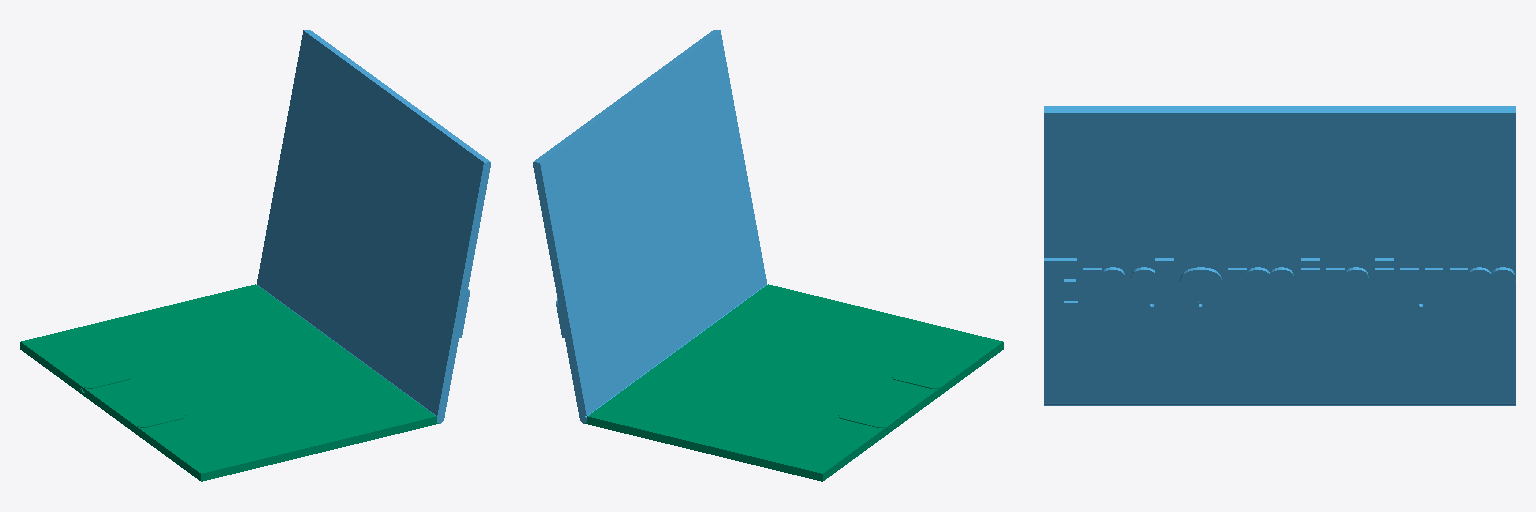
robot.urdf — partnet_5d544ee4b094c6606436916a86a90ed7:
<?xml version="1.0" ?>
<robot name="partnet_5d544ee4b094c6606436916a86a90ed7">
	<link name="base"/>
	<link name="link_0">
		<visual name="screen-7">
			<origin xyz="-0.44804212917652464 0.21356399999999987 0.2023642442228723"/>
			<geometry>
				<mesh filename="textured_objs/original-3.obj"/>
			</geometry>
		</visual>
		<visual name="screen_frame-8">
			<origin xyz="-0.44804212917652464 0.21356399999999987 0.2023642442228723"/>
			<geometry>
				<mesh filename="textured_objs/original-4.obj"/>
			</geometry>
		</visual>
		<visual name="screen_frame-8">
			<origin xyz="-0.44804212917652464 0.21356399999999987 0.2023642442228723"/>
			<geometry>
				<mesh filename="textured_objs/original-1.obj"/>
			</geometry>
		</visual>
		<visual name="screen_frame-8">
			<origin xyz="-0.44804212917652464 0.21356399999999987 0.2023642442228723"/>
			<geometry>
				<mesh filename="textured_objs/original-56.obj"/>
			</geometry>
		</visual>
		<visual name="screen_frame-8">
			<origin xyz="-0.44804212917652464 0.21356399999999987 0.2023642442228723"/>
			<geometry>
				<mesh filename="textured_objs/original-17.obj"/>
			</geometry>
		</visual>
		<visual name="screen_frame-8">
			<origin xyz="-0.44804212917652464 0.21356399999999987 0.2023642442228723"/>
			<geometry>
				<mesh filename="textured_objs/original-16.obj"/>
			</geometry>
		</visual>
		<visual name="screen_frame-8">
			<origin xyz="-0.44804212917652464 0.21356399999999987 0.2023642442228723"/>
			<geometry>
				<mesh filename="textured_objs/original-15.obj"/>
			</geometry>
		</visual>
		<visual name="screen_frame-8">
			<origin xyz="-0.44804212917652464 0.21356399999999987 0.2023642442228723"/>
			<geometry>
				<mesh filename="textured_objs/original-13.obj"/>
			</geometry>
		</visual>
		<visual name="screen_frame-8">
			<origin xyz="-0.44804212917652464 0.21356399999999987 0.2023642442228723"/>
			<geometry>
				<mesh filename="textured_objs/original-12.obj"/>
			</geometry>
		</visual>
		<visual name="screen_frame-8">
			<origin xyz="-0.44804212917652464 0.21356399999999987 0.2023642442228723"/>
			<geometry>
				<mesh filename="textured_objs/original-11.obj"/>
			</geometry>
		</visual>
		<visual name="screen_frame-8">
			<origin xyz="-0.44804212917652464 0.21356399999999987 0.2023642442228723"/>
			<geometry>
				<mesh filename="textured_objs/original-14.obj"/>
			</geometry>
		</visual>
		<visual name="screen_frame-8">
			<origin xyz="-0.44804212917652464 0.21356399999999987 0.2023642442228723"/>
			<geometry>
				<mesh filename="textured_objs/original-6.obj"/>
			</geometry>
		</visual>
		<visual name="screen_frame-8">
			<origin xyz="-0.44804212917652464 0.21356399999999987 0.2023642442228723"/>
			<geometry>
				<mesh filename="textured_objs/original-7.obj"/>
			</geometry>
		</visual>
		<visual name="screen_frame-8">
			<origin xyz="-0.44804212917652464 0.21356399999999987 0.2023642442228723"/>
			<geometry>
				<mesh filename="textured_objs/original-8.obj"/>
			</geometry>
		</visual>
		<visual name="screen_frame-8">
			<origin xyz="-0.44804212917652464 0.21356399999999987 0.2023642442228723"/>
			<geometry>
				<mesh filename="textured_objs/original-9.obj"/>
			</geometry>
		</visual>
		<visual name="screen_frame-8">
			<origin xyz="-0.44804212917652464 0.21356399999999987 0.2023642442228723"/>
			<geometry>
				<mesh filename="textured_objs/original-10.obj"/>
			</geometry>
		</visual>
		<collision>
			<origin xyz="-0.44804212917652464 0.21356399999999987 0.2023642442228723"/>
			<geometry>
				<mesh filename="textured_objs/original-3.obj"/>
			</geometry>
		</collision>
		<collision>
			<origin xyz="-0.44804212917652464 0.21356399999999987 0.2023642442228723"/>
			<geometry>
				<mesh filename="textured_objs/original-4.obj"/>
			</geometry>
		</collision>
		<collision>
			<origin xyz="-0.44804212917652464 0.21356399999999987 0.2023642442228723"/>
			<geometry>
				<mesh filename="textured_objs/original-1.obj"/>
			</geometry>
		</collision>
		<collision>
			<origin xyz="-0.44804212917652464 0.21356399999999987 0.2023642442228723"/>
			<geometry>
				<mesh filename="textured_objs/original-56.obj"/>
			</geometry>
		</collision>
		<collision>
			<origin xyz="-0.44804212917652464 0.21356399999999987 0.2023642442228723"/>
			<geometry>
				<mesh filename="textured_objs/original-17.obj"/>
			</geometry>
		</collision>
		<collision>
			<origin xyz="-0.44804212917652464 0.21356399999999987 0.2023642442228723"/>
			<geometry>
				<mesh filename="textured_objs/original-16.obj"/>
			</geometry>
		</collision>
		<collision>
			<origin xyz="-0.44804212917652464 0.21356399999999987 0.2023642442228723"/>
			<geometry>
				<mesh filename="textured_objs/original-15.obj"/>
			</geometry>
		</collision>
		<collision>
			<origin xyz="-0.44804212917652464 0.21356399999999987 0.2023642442228723"/>
			<geometry>
				<mesh filename="textured_objs/original-13.obj"/>
			</geometry>
		</collision>
		<collision>
			<origin xyz="-0.44804212917652464 0.21356399999999987 0.2023642442228723"/>
			<geometry>
				<mesh filename="textured_objs/original-12.obj"/>
			</geometry>
		</collision>
		<collision>
			<origin xyz="-0.44804212917652464 0.21356399999999987 0.2023642442228723"/>
			<geometry>
				<mesh filename="textured_objs/original-11.obj"/>
			</geometry>
		</collision>
		<collision>
			<origin xyz="-0.44804212917652464 0.21356399999999987 0.2023642442228723"/>
			<geometry>
				<mesh filename="textured_objs/original-14.obj"/>
			</geometry>
		</collision>
		<collision>
			<origin xyz="-0.44804212917652464 0.21356399999999987 0.2023642442228723"/>
			<geometry>
				<mesh filename="textured_objs/original-6.obj"/>
			</geometry>
		</collision>
		<collision>
			<origin xyz="-0.44804212917652464 0.21356399999999987 0.2023642442228723"/>
			<geometry>
				<mesh filename="textured_objs/original-7.obj"/>
			</geometry>
		</collision>
		<collision>
			<origin xyz="-0.44804212917652464 0.21356399999999987 0.2023642442228723"/>
			<geometry>
				<mesh filename="textured_objs/original-8.obj"/>
			</geometry>
		</collision>
		<collision>
			<origin xyz="-0.44804212917652464 0.21356399999999987 0.2023642442228723"/>
			<geometry>
				<mesh filename="textured_objs/original-9.obj"/>
			</geometry>
		</collision>
		<collision>
			<origin xyz="-0.44804212917652464 0.21356399999999987 0.2023642442228723"/>
			<geometry>
				<mesh filename="textured_objs/original-10.obj"/>
			</geometry>
		</collision>
	</link>
	<joint name="joint_0" type="revolute">
		<origin xyz="0.44804212917652464 -0.21356399999999987 -0.2023642442228723"/>
		<axis xyz="-0.9802709742607297 0 0"/>
		<child link="link_0"/>
		<parent link="link_1"/>
		<limit lower="-1.7697638615222502" upper="-0.0"/>
	</joint>
	<link name="link_1">
		<visual name="keyboard-3">
			<origin xyz="0 0 0"/>
			<geometry>
				<mesh filename="textured_objs/original-55.obj"/>
			</geometry>
		</visual>
		<visual name="touchpad_surface-6">
			<origin xyz="0 0 0"/>
			<geometry>
				<mesh filename="textured_objs/original-50.obj"/>
			</geometry>
		</visual>
		<visual name="base_frame-5">
			<origin xyz="0 0 0"/>
			<geometry>
				<mesh filename="textured_objs/original-33.obj"/>
			</geometry>
		</visual>
		<visual name="base_frame-5">
			<origin xyz="0 0 0"/>
			<geometry>
				<mesh filename="textured_objs/original-30.obj"/>
			</geometry>
		</visual>
		<visual name="base_frame-5">
			<origin xyz="0 0 0"/>
			<geometry>
				<mesh filename="textured_objs/original-27.obj"/>
			</geometry>
		</visual>
		<visual name="base_frame-5">
			<origin xyz="0 0 0"/>
			<geometry>
				<mesh filename="textured_objs/original-24.obj"/>
			</geometry>
		</visual>
		<visual name="base_frame-5">
			<origin xyz="0 0 0"/>
			<geometry>
				<mesh filename="textured_objs/original-22.obj"/>
			</geometry>
		</visual>
		<visual name="base_frame-5">
			<origin xyz="0 0 0"/>
			<geometry>
				<mesh filename="textured_objs/original-28.obj"/>
			</geometry>
		</visual>
		<visual name="base_frame-5">
			<origin xyz="0 0 0"/>
			<geometry>
				<mesh filename="textured_objs/original-23.obj"/>
			</geometry>
		</visual>
		<visual name="base_frame-5">
			<origin xyz="0 0 0"/>
			<geometry>
				<mesh filename="textured_objs/original-26.obj"/>
			</geometry>
		</visual>
		<visual name="base_frame-5">
			<origin xyz="0 0 0"/>
			<geometry>
				<mesh filename="textured_objs/original-29.obj"/>
			</geometry>
		</visual>
		<visual name="base_frame-5">
			<origin xyz="0 0 0"/>
			<geometry>
				<mesh filename="textured_objs/original-38.obj"/>
			</geometry>
		</visual>
		<visual name="base_frame-5">
			<origin xyz="0 0 0"/>
			<geometry>
				<mesh filename="textured_objs/original-37.obj"/>
			</geometry>
		</visual>
		<visual name="base_frame-5">
			<origin xyz="0 0 0"/>
			<geometry>
				<mesh filename="textured_objs/original-39.obj"/>
			</geometry>
		</visual>
		<visual name="base_frame-5">
			<origin xyz="0 0 0"/>
			<geometry>
				<mesh filename="textured_objs/original-40.obj"/>
			</geometry>
		</visual>
		<visual name="base_frame-5">
			<origin xyz="0 0 0"/>
			<geometry>
				<mesh filename="textured_objs/original-42.obj"/>
			</geometry>
		</visual>
		<visual name="base_frame-5">
			<origin xyz="0 0 0"/>
			<geometry>
				<mesh filename="textured_objs/original-45.obj"/>
			</geometry>
		</visual>
		<visual name="base_frame-5">
			<origin xyz="0 0 0"/>
			<geometry>
				<mesh filename="textured_objs/original-49.obj"/>
			</geometry>
		</visual>
		<visual name="base_frame-5">
			<origin xyz="0 0 0"/>
			<geometry>
				<mesh filename="textured_objs/original-48.obj"/>
			</geometry>
		</visual>
		<visual name="base_frame-5">
			<origin xyz="0 0 0"/>
			<geometry>
				<mesh filename="textured_objs/original-32.obj"/>
			</geometry>
		</visual>
		<visual name="base_frame-5">
			<origin xyz="0 0 0"/>
			<geometry>
				<mesh filename="textured_objs/original-43.obj"/>
			</geometry>
		</visual>
		<visual name="base_frame-5">
			<origin xyz="0 0 0"/>
			<geometry>
				<mesh filename="textured_objs/original-41.obj"/>
			</geometry>
		</visual>
		<visual name="base_frame-5">
			<origin xyz="0 0 0"/>
			<geometry>
				<mesh filename="textured_objs/original-25.obj"/>
			</geometry>
		</visual>
		<visual name="base_frame-5">
			<origin xyz="0 0 0"/>
			<geometry>
				<mesh filename="textured_objs/original-46.obj"/>
			</geometry>
		</visual>
		<visual name="base_frame-5">
			<origin xyz="0 0 0"/>
			<geometry>
				<mesh filename="textured_objs/original-44.obj"/>
			</geometry>
		</visual>
		<visual name="base_frame-5">
			<origin xyz="0 0 0"/>
			<geometry>
				<mesh filename="textured_objs/original-34.obj"/>
			</geometry>
		</visual>
		<visual name="base_frame-5">
			<origin xyz="0 0 0"/>
			<geometry>
				<mesh filename="textured_objs/original-35.obj"/>
			</geometry>
		</visual>
		<visual name="base_frame-5">
			<origin xyz="0 0 0"/>
			<geometry>
				<mesh filename="textured_objs/original-51.obj"/>
			</geometry>
		</visual>
		<visual name="base_frame-5">
			<origin xyz="0 0 0"/>
			<geometry>
				<mesh filename="textured_objs/original-54.obj"/>
			</geometry>
		</visual>
		<visual name="base_frame-5">
			<origin xyz="0 0 0"/>
			<geometry>
				<mesh filename="textured_objs/original-53.obj"/>
			</geometry>
		</visual>
		<collision>
			<origin xyz="0 0 0"/>
			<geometry>
				<mesh filename="textured_objs/original-55.obj"/>
			</geometry>
		</collision>
		<collision>
			<origin xyz="0 0 0"/>
			<geometry>
				<mesh filename="textured_objs/original-50.obj"/>
			</geometry>
		</collision>
		<collision>
			<origin xyz="0 0 0"/>
			<geometry>
				<mesh filename="textured_objs/original-33.obj"/>
			</geometry>
		</collision>
		<collision>
			<origin xyz="0 0 0"/>
			<geometry>
				<mesh filename="textured_objs/original-30.obj"/>
			</geometry>
		</collision>
		<collision>
			<origin xyz="0 0 0"/>
			<geometry>
				<mesh filename="textured_objs/original-27.obj"/>
			</geometry>
		</collision>
		<collision>
			<origin xyz="0 0 0"/>
			<geometry>
				<mesh filename="textured_objs/original-24.obj"/>
			</geometry>
		</collision>
		<collision>
			<origin xyz="0 0 0"/>
			<geometry>
				<mesh filename="textured_objs/original-22.obj"/>
			</geometry>
		</collision>
		<collision>
			<origin xyz="0 0 0"/>
			<geometry>
				<mesh filename="textured_objs/original-28.obj"/>
			</geometry>
		</collision>
		<collision>
			<origin xyz="0 0 0"/>
			<geometry>
				<mesh filename="textured_objs/original-23.obj"/>
			</geometry>
		</collision>
		<collision>
			<origin xyz="0 0 0"/>
			<geometry>
				<mesh filename="textured_objs/original-26.obj"/>
			</geometry>
		</collision>
		<collision>
			<origin xyz="0 0 0"/>
			<geometry>
				<mesh filename="textured_objs/original-29.obj"/>
			</geometry>
		</collision>
		<collision>
			<origin xyz="0 0 0"/>
			<geometry>
				<mesh filename="textured_objs/original-38.obj"/>
			</geometry>
		</collision>
		<collision>
			<origin xyz="0 0 0"/>
			<geometry>
				<mesh filename="textured_objs/original-37.obj"/>
			</geometry>
		</collision>
		<collision>
			<origin xyz="0 0 0"/>
			<geometry>
				<mesh filename="textured_objs/original-39.obj"/>
			</geometry>
		</collision>
		<collision>
			<origin xyz="0 0 0"/>
			<geometry>
				<mesh filename="textured_objs/original-40.obj"/>
			</geometry>
		</collision>
		<collision>
			<origin xyz="0 0 0"/>
			<geometry>
				<mesh filename="textured_objs/original-42.obj"/>
			</geometry>
		</collision>
		<collision>
			<origin xyz="0 0 0"/>
			<geometry>
				<mesh filename="textured_objs/original-45.obj"/>
			</geometry>
		</collision>
		<collision>
			<origin xyz="0 0 0"/>
			<geometry>
				<mesh filename="textured_objs/original-49.obj"/>
			</geometry>
		</collision>
		<collision>
			<origin xyz="0 0 0"/>
			<geometry>
				<mesh filename="textured_objs/original-48.obj"/>
			</geometry>
		</collision>
		<collision>
			<origin xyz="0 0 0"/>
			<geometry>
				<mesh filename="textured_objs/original-32.obj"/>
			</geometry>
		</collision>
		<collision>
			<origin xyz="0 0 0"/>
			<geometry>
				<mesh filename="textured_objs/original-43.obj"/>
			</geometry>
		</collision>
		<collision>
			<origin xyz="0 0 0"/>
			<geometry>
				<mesh filename="textured_objs/original-41.obj"/>
			</geometry>
		</collision>
		<collision>
			<origin xyz="0 0 0"/>
			<geometry>
				<mesh filename="textured_objs/original-25.obj"/>
			</geometry>
		</collision>
		<collision>
			<origin xyz="0 0 0"/>
			<geometry>
				<mesh filename="textured_objs/original-46.obj"/>
			</geometry>
		</collision>
		<collision>
			<origin xyz="0 0 0"/>
			<geometry>
				<mesh filename="textured_objs/original-44.obj"/>
			</geometry>
		</collision>
		<collision>
			<origin xyz="0 0 0"/>
			<geometry>
				<mesh filename="textured_objs/original-34.obj"/>
			</geometry>
		</collision>
		<collision>
			<origin xyz="0 0 0"/>
			<geometry>
				<mesh filename="textured_objs/original-35.obj"/>
			</geometry>
		</collision>
		<collision>
			<origin xyz="0 0 0"/>
			<geometry>
				<mesh filename="textured_objs/original-51.obj"/>
			</geometry>
		</collision>
		<collision>
			<origin xyz="0 0 0"/>
			<geometry>
				<mesh filename="textured_objs/original-54.obj"/>
			</geometry>
		</collision>
		<collision>
			<origin xyz="0 0 0"/>
			<geometry>
				<mesh filename="textured_objs/original-53.obj"/>
			</geometry>
		</collision>
	</link>
	<joint name="joint_1" type="fixed">
		<origin rpy="1.570796326794897 0 -1.570796326794897" xyz="0 0 0"/>
		<child link="link_1"/>
		<parent link="base"/>
	</joint>
</robot>

--- What the picture shows (computed from the rendered views, not written in the file) ---
Views: 3 orthographic renders of the robot side by side, from view 1: azimuth 30°, elevation 25°; view 2: azimuth 150°, elevation 25°; view 3: azimuth 270°, elevation 25°.
Robot: partnet_5d544ee4b094c6606436916a86a90ed7 — 3 links, 2 joints (1 revolute, 1 fixed); root link base; default pose: every joint at zero.
Visible links, largest first — view 1: link_0, link_1; view 2: link_0, link_1; view 3: link_0.
Boxes of the visible links, x1,y1,x2,y2 form: link_0: [257, 30, 490, 423]; link_1: [20, 284, 438, 481]; link_0: [533, 30, 766, 423]; link_1: [585, 284, 1003, 481]; link_0: [1044, 106, 1515, 405].
Size in the robot's own frame: 1.17 by 1.26 by 0.9622 metres.
46 mesh visuals loaded from 46 distinct referenced files (46 OBJ).
